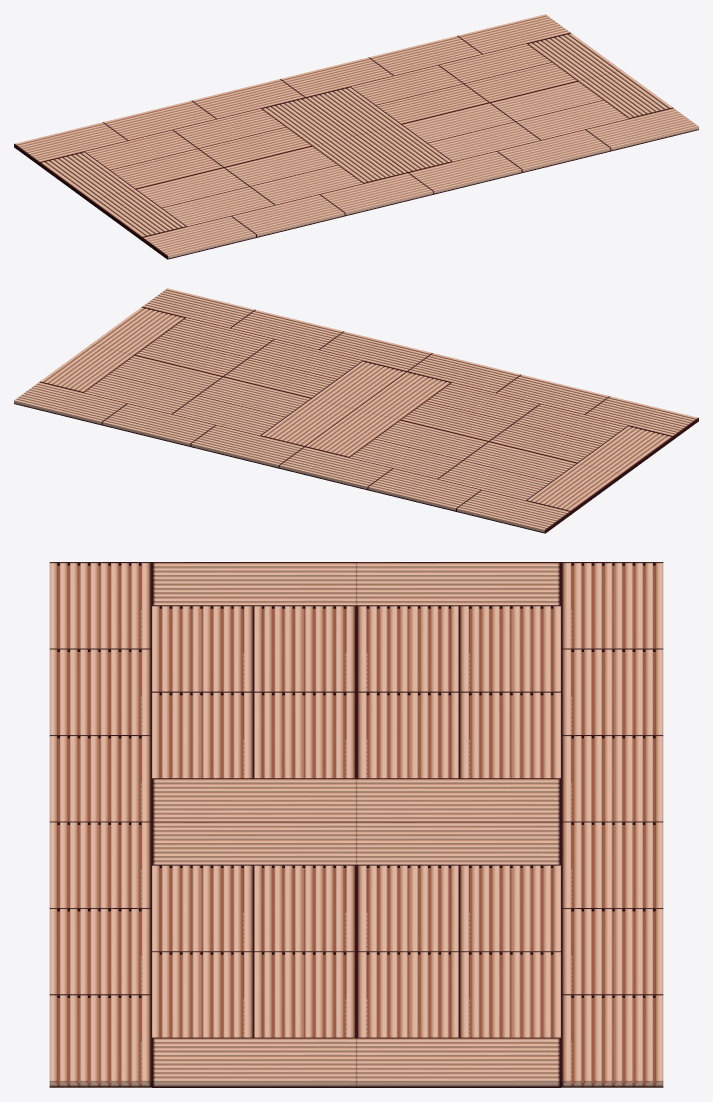
Rendered from PisoGrande.fbx.
3 renders of one model, top to bottom at view 1: azimuth 30°, elevation 25°; view 2: azimuth 150°, elevation 25°; view 3: azimuth 270°, elevation 25°, orthographic. The views are drawn at different scales.
Parts seen in each view (by area): view 1: PisoGrande; view 2: PisoGrande; view 3: PisoGrande.
Part boxes in pixels (x1,y1,x2,y2): PisoGrande: (14,14,698,259); PisoGrande: (14,288,698,533); PisoGrande: (49,562,663,1087).
Bounding box in the file's own units: 48 × 24 × 0.3.
